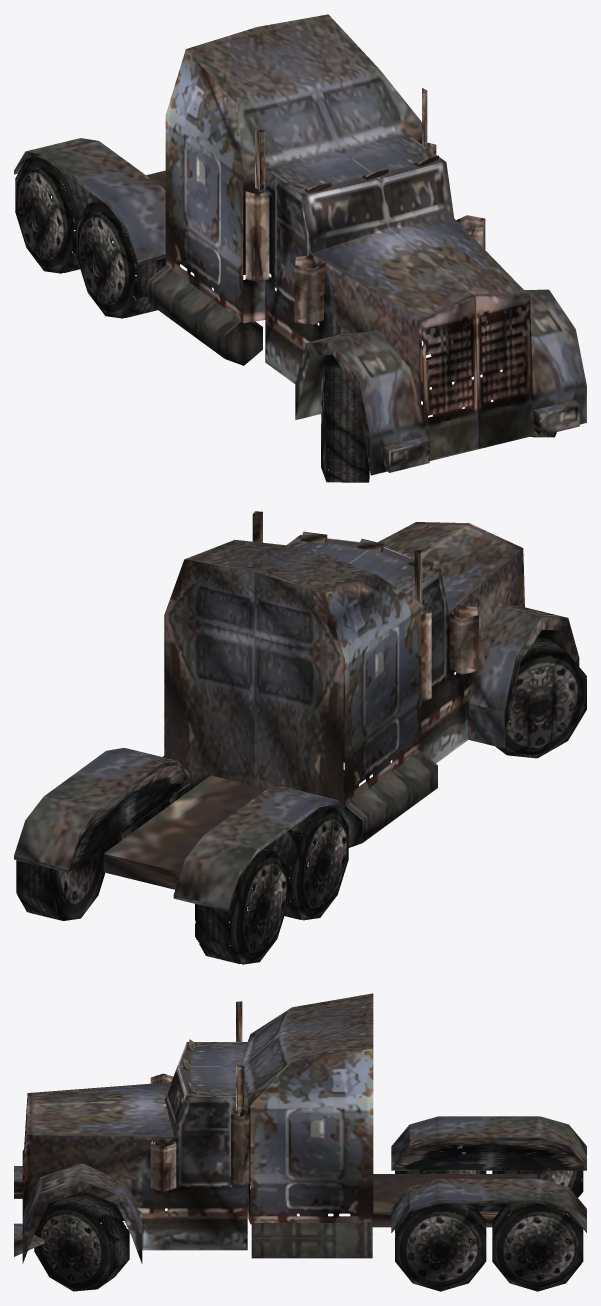
File: truck.fbx
3 views of the same model, one above another, from view 1: azimuth 30°, elevation 25°; view 2: azimuth 150°, elevation 25°; view 3: azimuth 270°, elevation 25° (orthographic). The views are drawn at different scales.
Parts seen in each view (by area): view 1: Mesh_0216.rip; view 2: Mesh_0216.rip; view 3: Mesh_0216.rip.
Part boxes in pixels (x1=…): Mesh_0216.rip: x1=14, y1=14, x2=586, y2=482; Mesh_0216.rip: x1=14, y1=511, x2=586, y2=964; Mesh_0216.rip: x1=14, y1=993, x2=586, y2=1291.
Bounding box in the file's own units: 809 × 845 × 1888.
